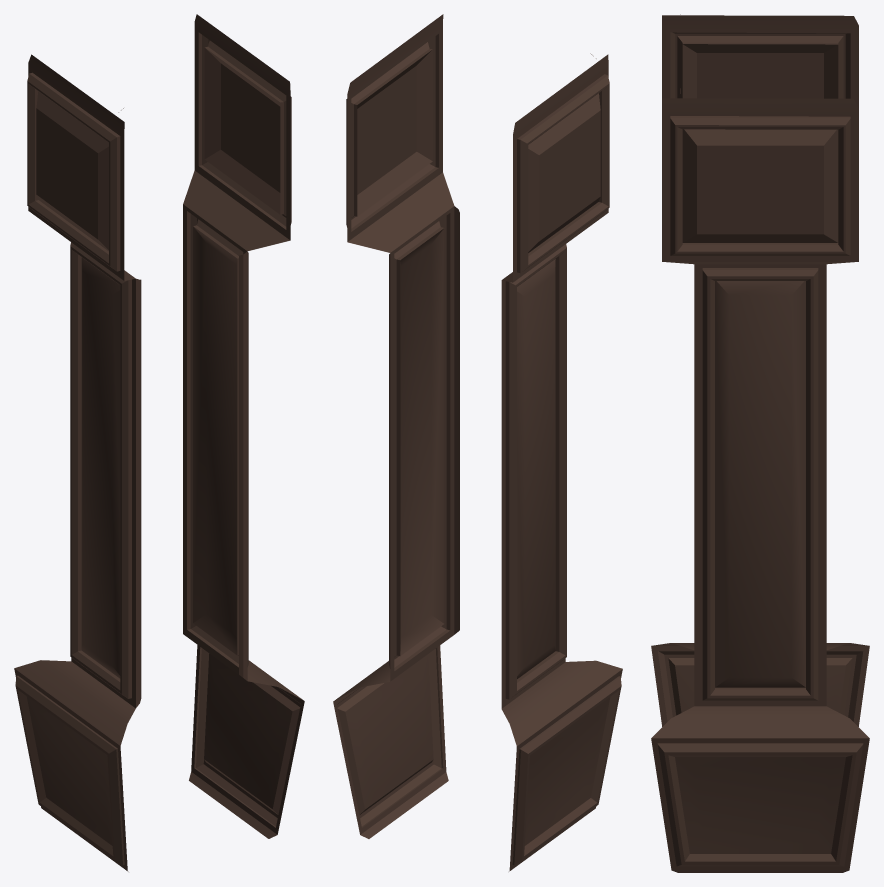
File: Clock part #1.fbx
3 renders of one model, left to right at view 1: azimuth 30°, elevation 25°; view 2: azimuth 150°, elevation 25°; view 3: azimuth 270°, elevation 25°, orthographic. The views are drawn at different scales.
Parts seen in each view (by area): view 1: Clock Model; view 2: Clock Model; view 3: Clock Model.
Part boxes in pixels (x1,y1,x2,y2): Clock Model: [14, 14, 304, 871]; Clock Model: [333, 14, 622, 871]; Clock Model: [651, 14, 869, 872].
Bounding box in the file's own units: 129 × 485 × 122.
